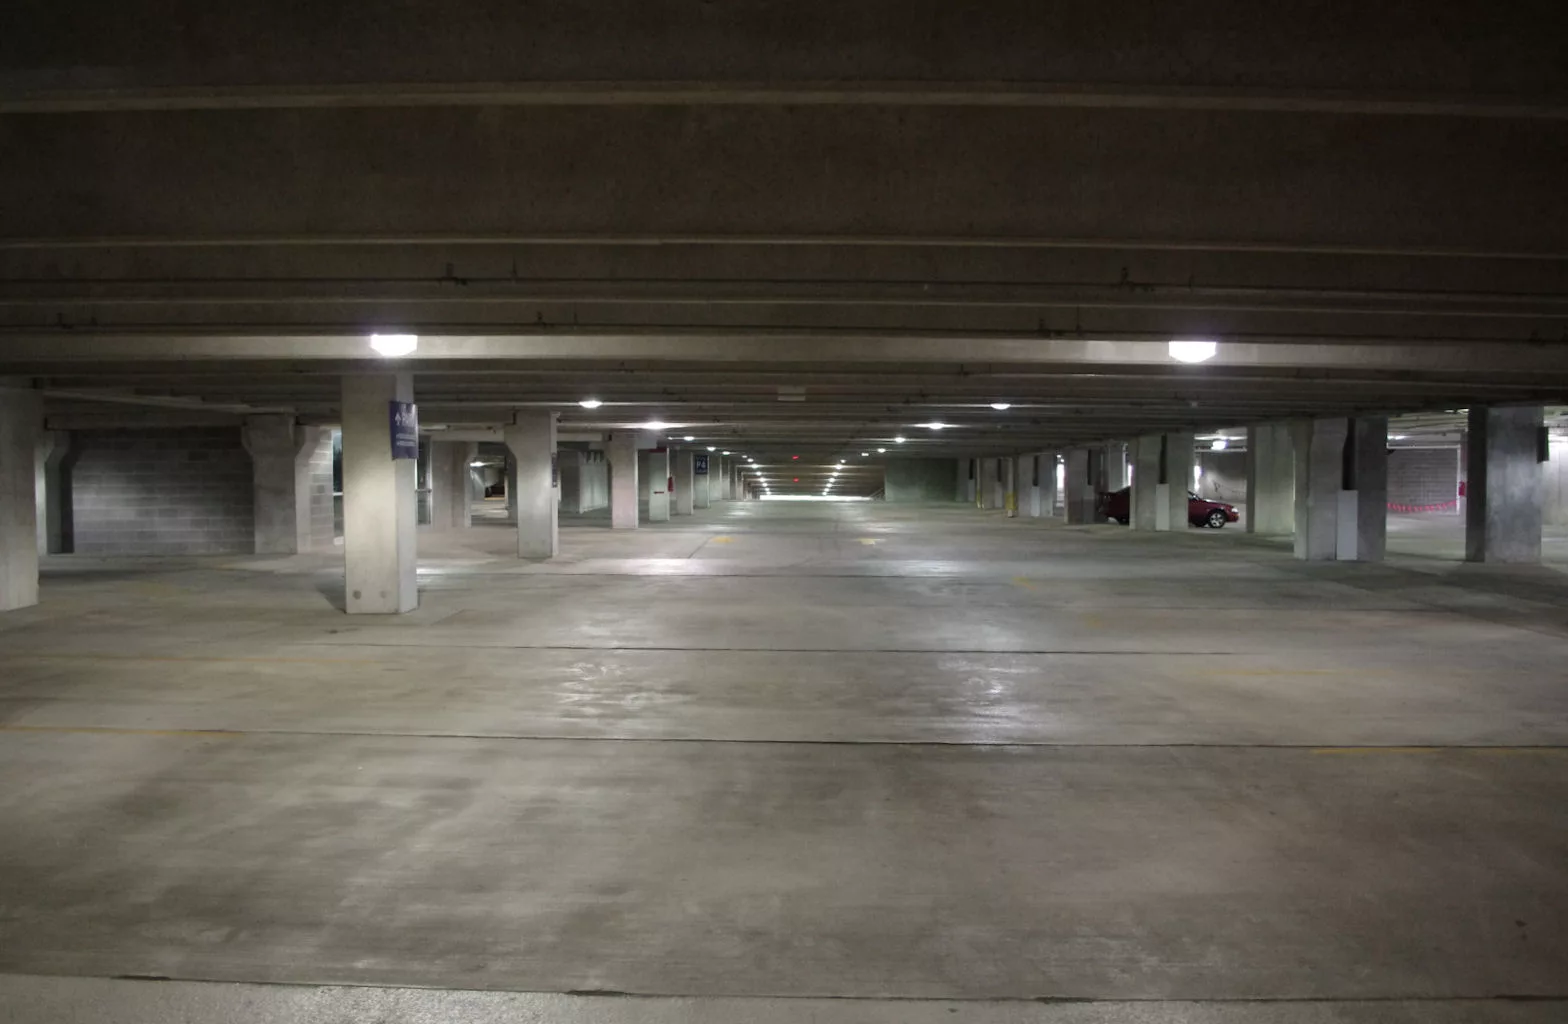Car: (1098, 486, 1238, 529)
